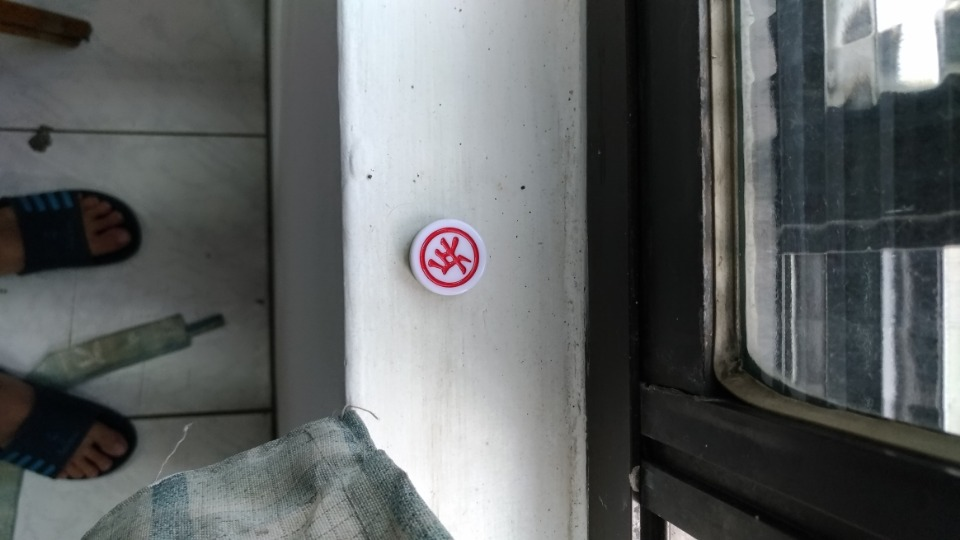r-pawn: (402, 211, 491, 308)
